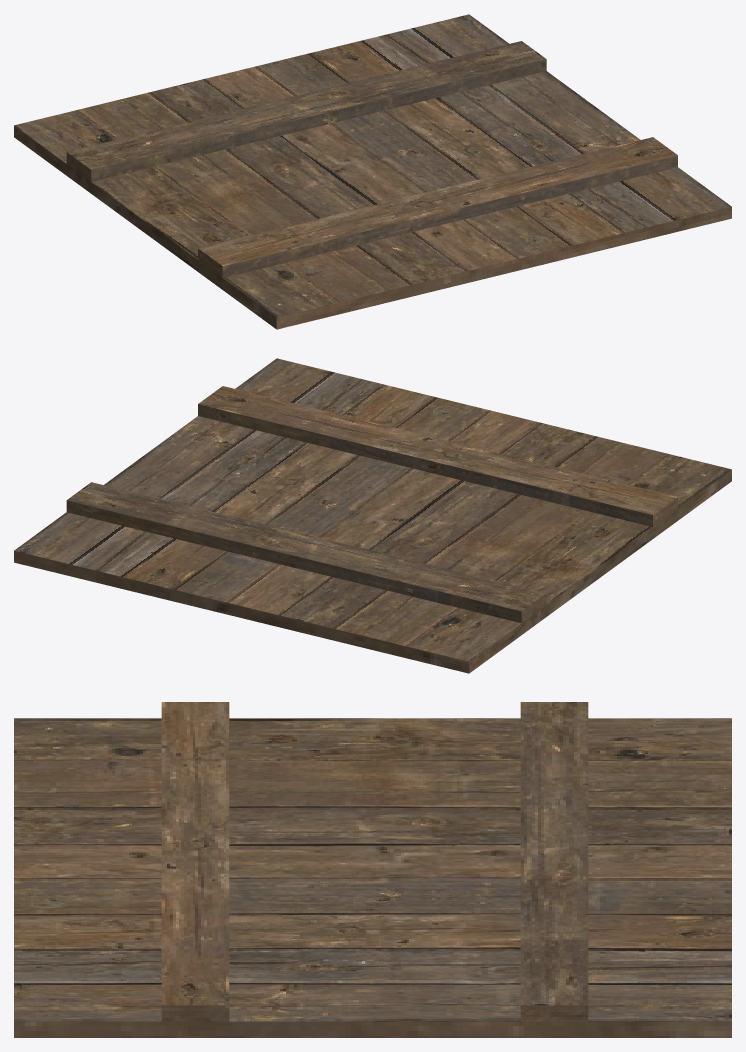
Rendered from cieling1.glb.
3 renders of one model, top to bottom at view 1: azimuth 30°, elevation 25°; view 2: azimuth 150°, elevation 25°; view 3: azimuth 270°, elevation 25°, orthographic. The views are drawn at different scales.
Parts seen in each view (by area): view 1: cieling1; view 2: cieling1; view 3: cieling1.
Boxes of the visible parts, x1,y1,x2,y2 form: cieling1: (14, 14, 731, 329); cieling1: (14, 358, 731, 673); cieling1: (14, 702, 731, 1037).
Bounding box in the file's own units: 2 × 0.1 × 2.
1 material, 1 textured.
